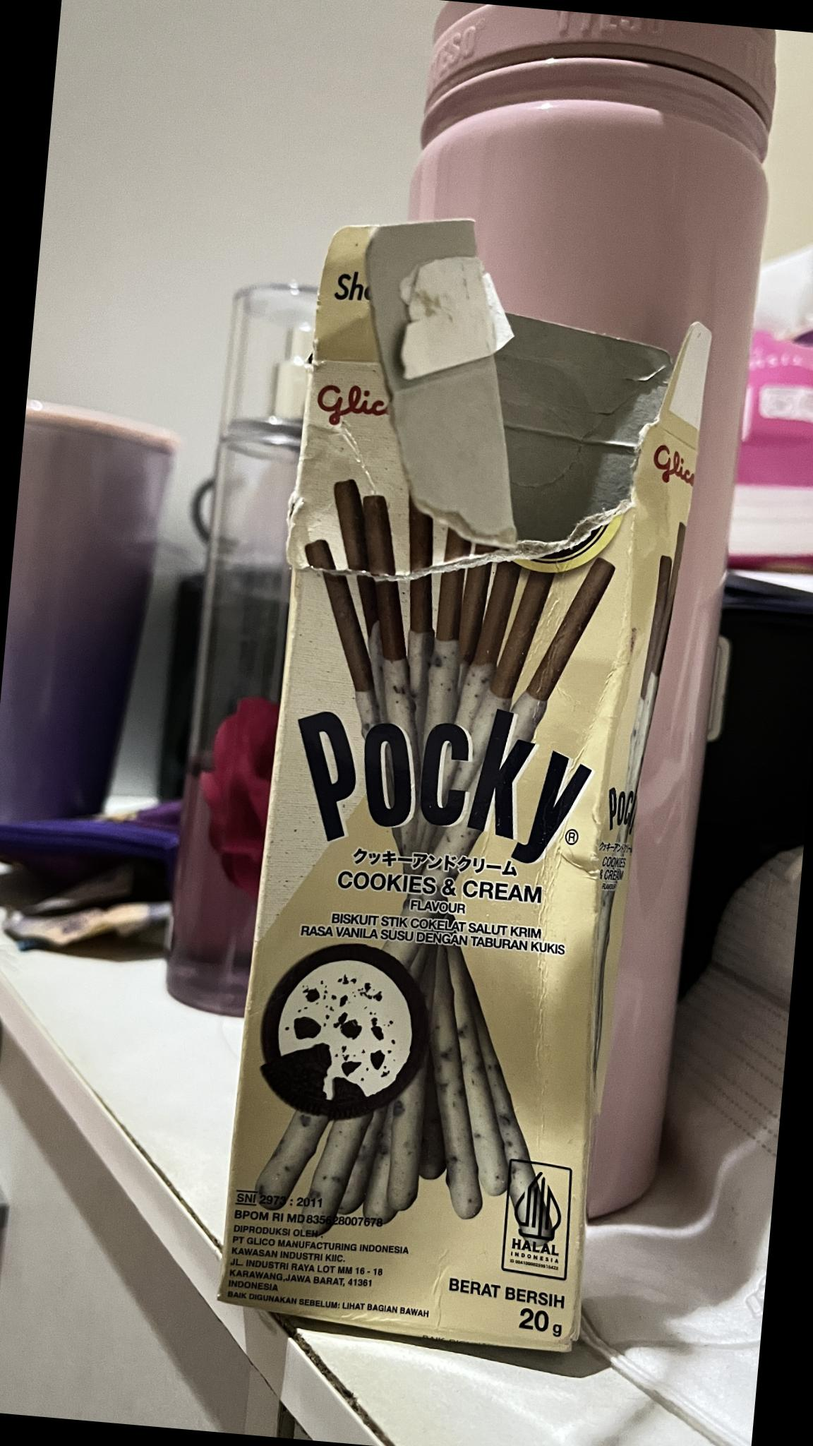Kertas: (214, 360, 701, 1359)
